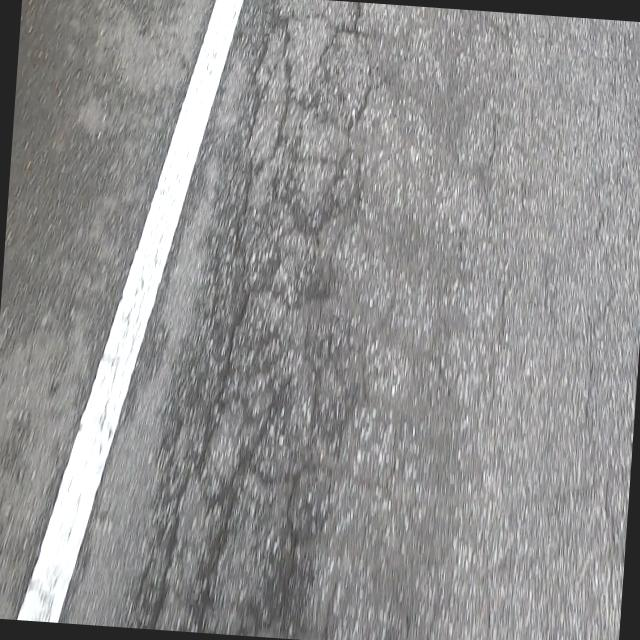Retak-Buaya: (136, 0, 371, 634)
